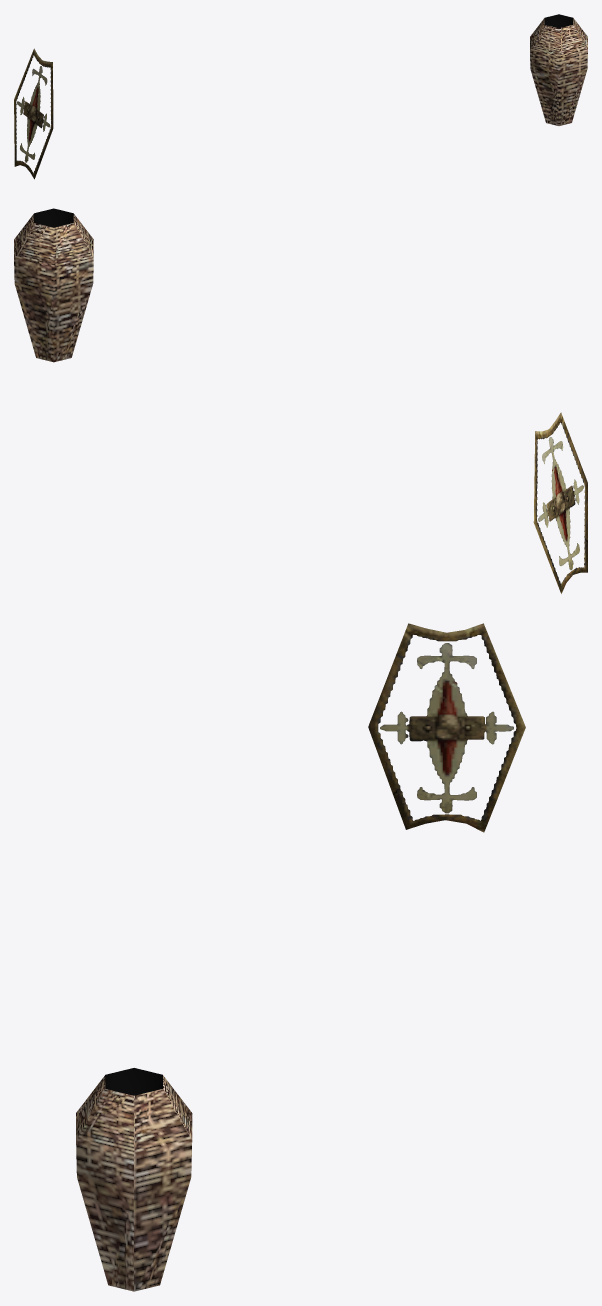
Rendered from celt_corral_props_new.dae.
The picture shows the model from 3 angles, top to bottom: view 1: azimuth 30°, elevation 25°; view 2: azimuth 150°, elevation 25°; view 3: azimuth 270°, elevation 25°; orthographic projection. The views are drawn at different scales.
Parts seen in each view (by area): view 1: Object10-Pivot; view 2: Object10-Pivot; view 3: Object10-Pivot.
Boxes of the visible parts, <box> form: Object10-Pivot: <box>14,14,587,179</box>; Object10-Pivot: <box>14,208,587,593</box>; Object10-Pivot: <box>76,623,525,1291</box>.
Size of the model in its own units: 10.63 by 4.26 by 2.39.
